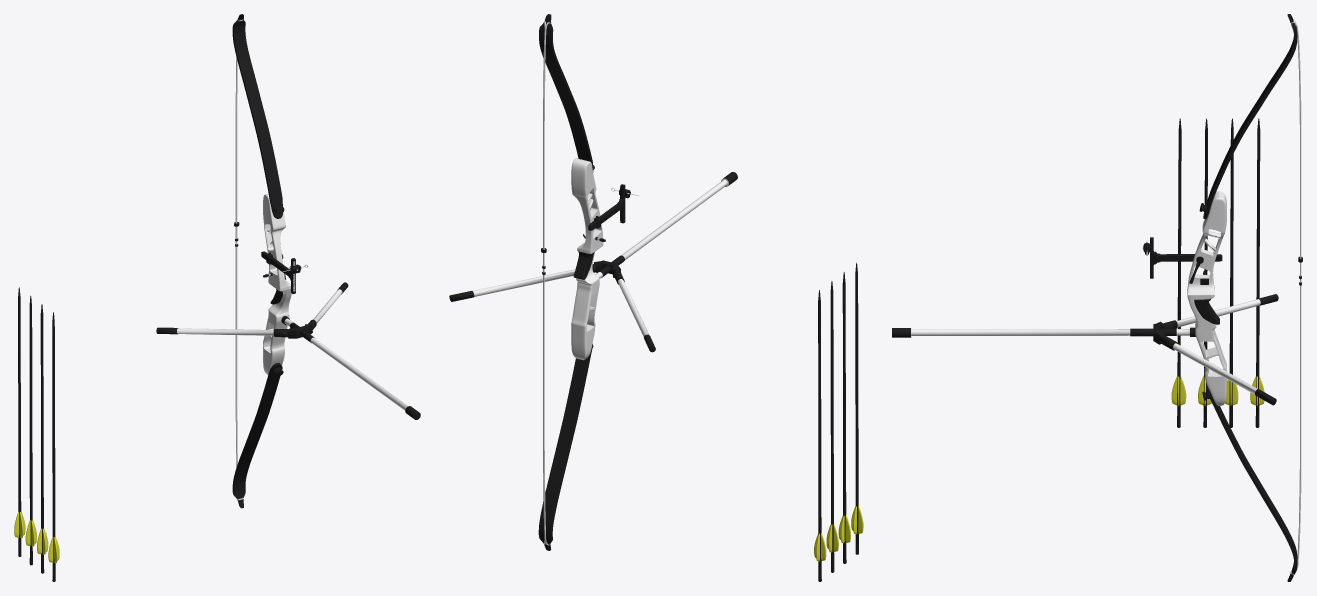
The model's file is Bow.fbx.
3 views of the same model, side by side, from view 1: azimuth 30°, elevation 25°; view 2: azimuth 150°, elevation 25°; view 3: azimuth 270°, elevation 25° (orthographic). The views are drawn at different scales.
Parts seen in each view (by area): view 1: Upper limb, Riser, Stabliser, Lower limb, arrow.002, String, arrow, arrow.001, arrow.003; view 2: Riser, Stabliser, Lower limb, Upper limb, arrow, arrow.002, arrow.003, arrow.001, String; view 3: Stabliser, Riser, Upper limb, Lower limb, arrow, arrow.003, arrow.002, String, arrow.001, body.
Boxes of the visible parts, bbox=[...] form: Upper limb: bbox=[232, 14, 282, 218]; Riser: bbox=[263, 193, 291, 375]; Stabliser: bbox=[156, 282, 420, 419]; Lower limb: bbox=[232, 362, 282, 508]; arrow.002: bbox=[25, 295, 36, 565]; String: bbox=[235, 19, 243, 500]; arrow: bbox=[48, 312, 59, 581]; arrow.001: bbox=[37, 304, 48, 573]; arrow.003: bbox=[14, 287, 25, 556]; Riser: bbox=[571, 158, 603, 360]; Stabliser: bbox=[449, 172, 737, 352]; Lower limb: bbox=[538, 345, 592, 550]; Upper limb: bbox=[539, 14, 593, 172]; arrow: bbox=[851, 262, 863, 554]; arrow.002: bbox=[826, 281, 838, 572]; arrow.003: bbox=[814, 290, 826, 581]; arrow.001: bbox=[838, 272, 850, 563]; String: bbox=[543, 21, 550, 545]; Stabliser: bbox=[892, 294, 1278, 405]; Riser: bbox=[1187, 191, 1226, 405]; Upper limb: bbox=[1203, 14, 1297, 219]; Lower limb: bbox=[1206, 385, 1297, 581]; arrow: bbox=[1171, 118, 1186, 427]; arrow.003: bbox=[1250, 118, 1264, 427]; arrow.002: bbox=[1224, 118, 1238, 427]; String: bbox=[1290, 19, 1301, 574]; arrow.001: bbox=[1198, 118, 1211, 427]; body: bbox=[1150, 237, 1222, 278].
Bounding box in the file's own units: 125 × 173 × 113.
